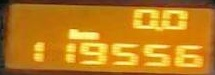-: (153, 25, 163, 30)
0: (158, 8, 186, 29), (131, 8, 158, 28)
1: (30, 41, 44, 62), (62, 42, 76, 62)
5: (108, 42, 138, 66), (141, 43, 171, 65)
6: (171, 44, 202, 67)
9: (77, 41, 107, 64)
